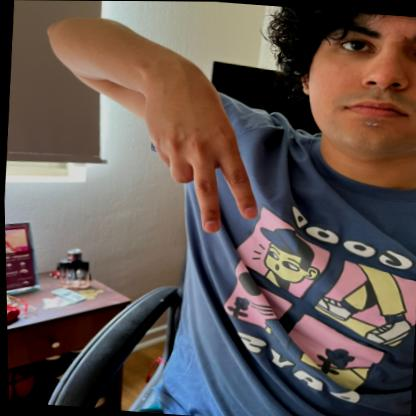N: (133, 61, 270, 238)
